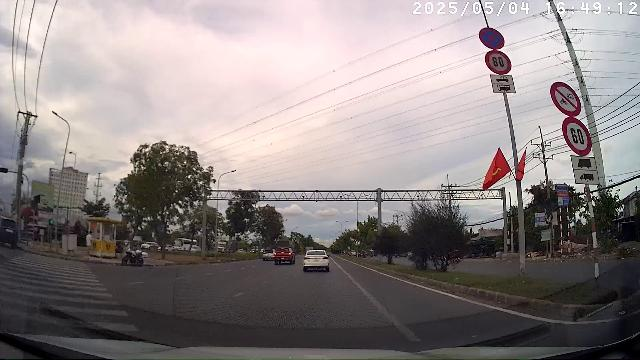127-toc-do-toi-da-60: (562, 118, 592, 156)
127-toc-do-toi-da-80: (484, 50, 512, 74)
130-cam-dung-va-do-xe: (479, 26, 505, 50)
